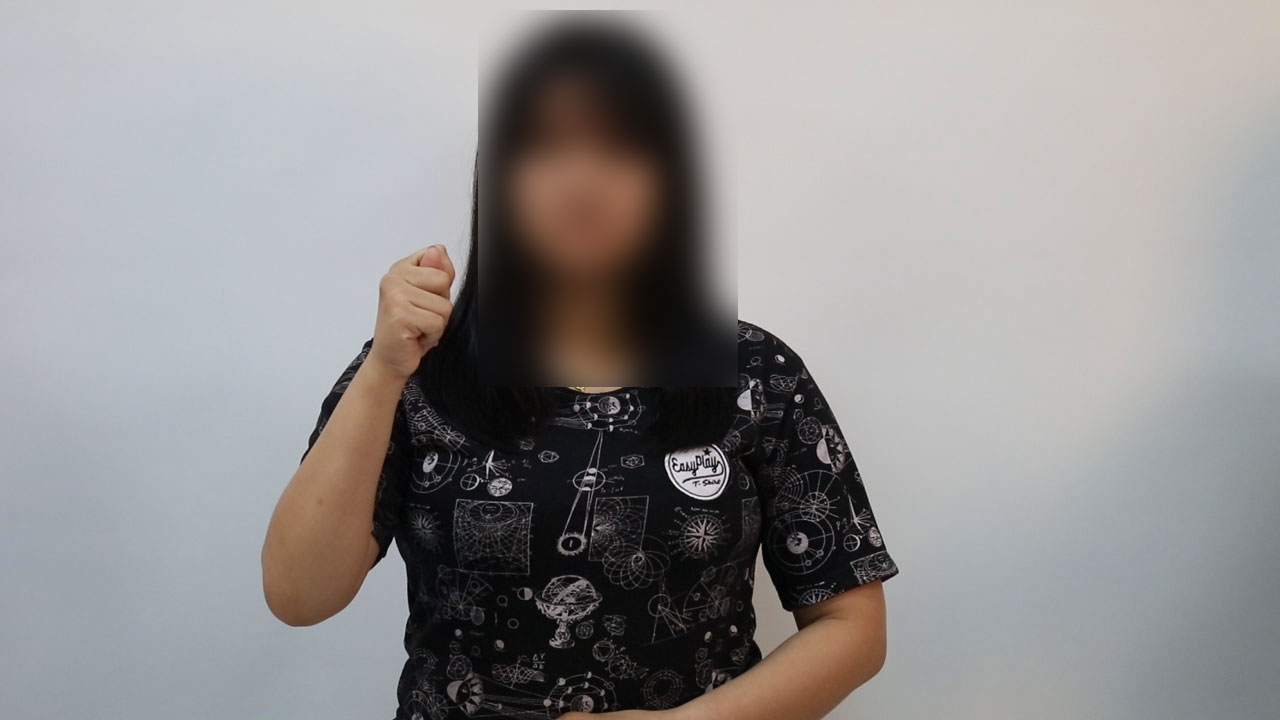tor: (361, 237, 467, 396)
